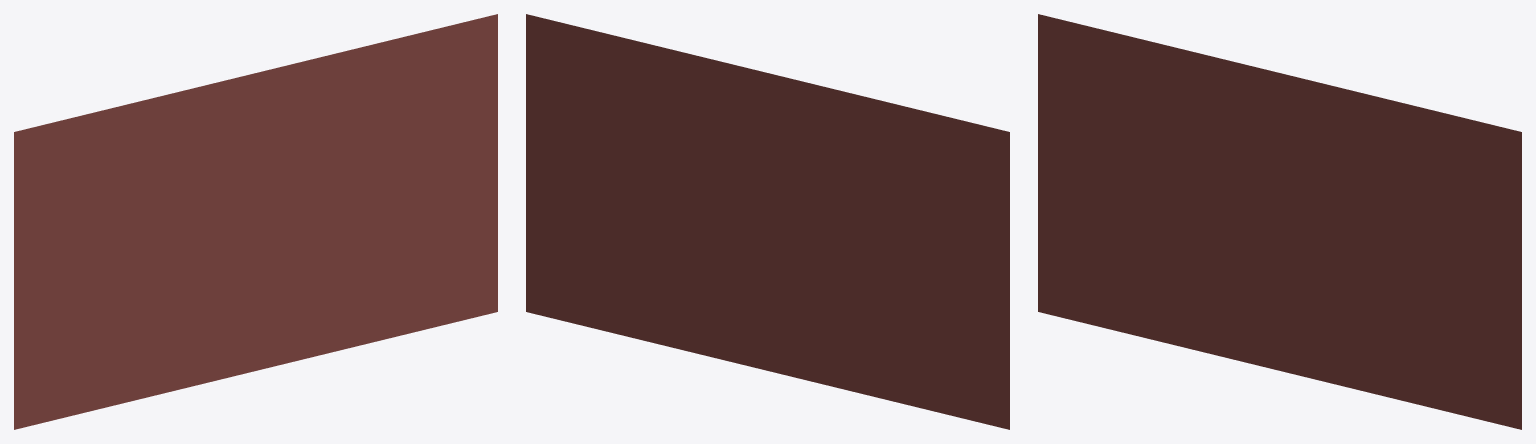
The model's file is Itr_Wall_Color_04.FBX.
3 views of the same model, side by side, from view 1: azimuth 30°, elevation 25°; view 2: azimuth 150°, elevation 25°; view 3: azimuth 330°, elevation 25° (orthographic).
Parts seen in each view (by area): view 1: Itr_Wall_Color_04; view 2: Itr_Wall_Color_04; view 3: Itr_Wall_Color_04.
Boxes of the visible parts, x1,y1,x2,y2 form: Itr_Wall_Color_04: (14, 14, 497, 429); Itr_Wall_Color_04: (526, 14, 1009, 429); Itr_Wall_Color_04: (1038, 14, 1521, 429).
Bounding box in the file's own units: 118 × 69.49 × 3.05e-05.
